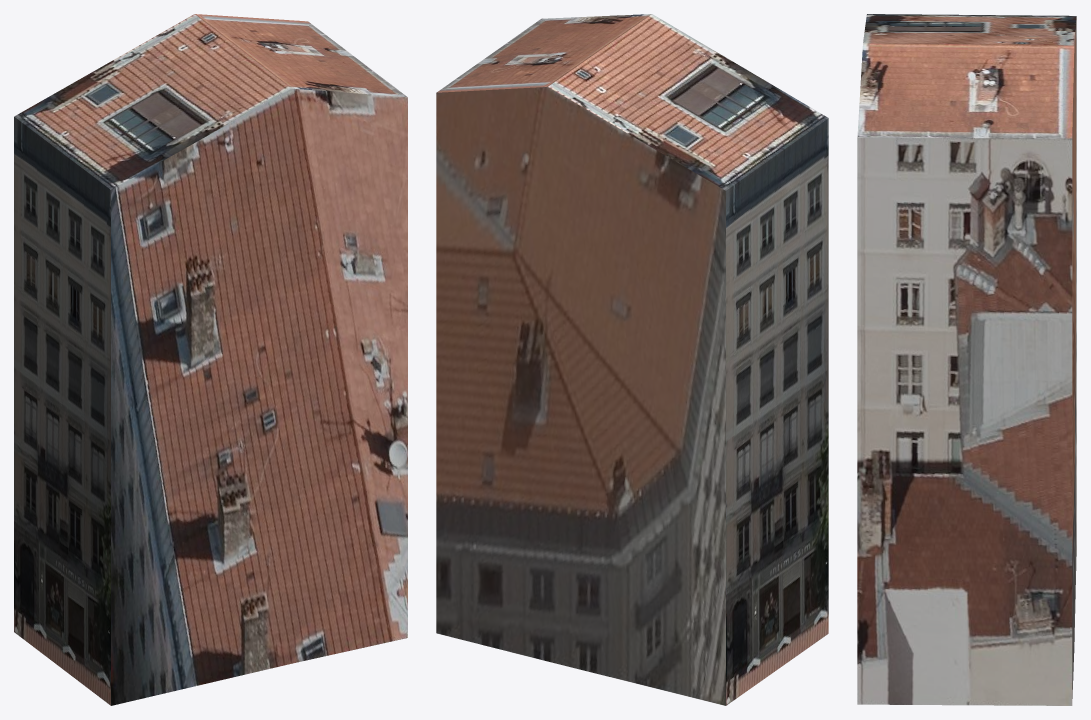
3 views of the same model, side by side, from view 1: azimuth 30°, elevation 25°; view 2: azimuth 150°, elevation 25°; view 3: azimuth 270°, elevation 25° (orthographic). The views are drawn at different scales.
Visible parts, largest first — view 1: Z_UP; view 2: Z_UP; view 3: Z_UP.
Boxes of the visible parts, box(x1,y1,x2,y2) form: Z_UP: box(14, 14, 407, 705); Z_UP: box(436, 14, 828, 705); Z_UP: box(857, 14, 1076, 705).
Bounding box in the file's own units: 15.23 × 28.39 × 9.34.
2 materials, 1 textured.
